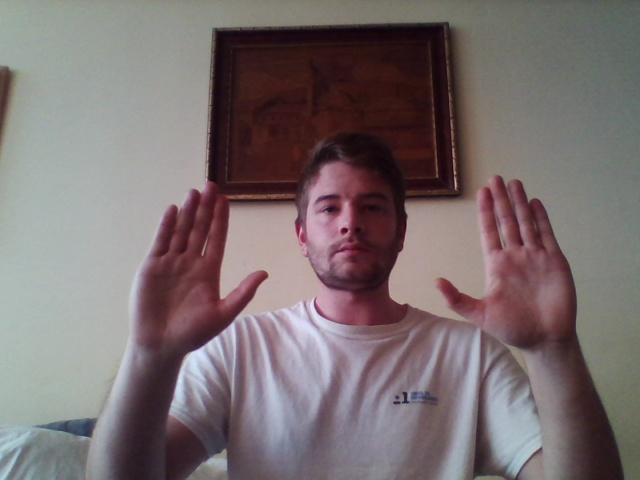prekrasno: (121, 177, 580, 357)
